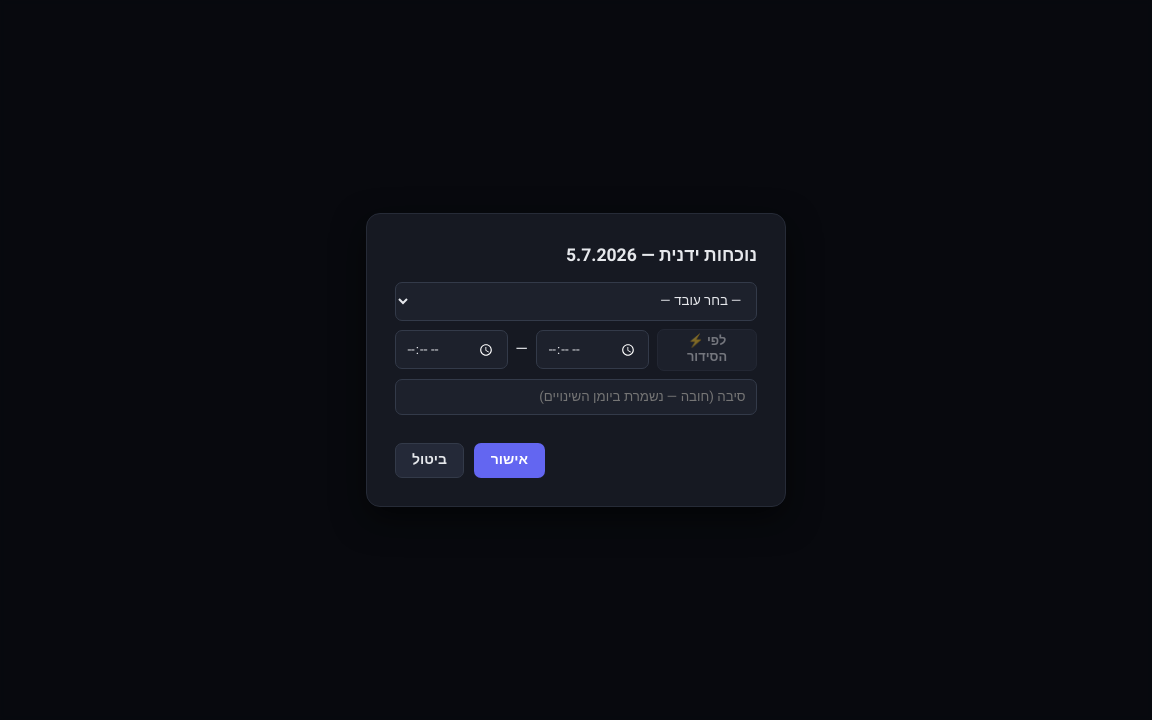
it: ManualEntryDialog › blocks submit without a guard or check-in
The width and height of the screenshot is (1152, 720).
Click the button "אישור" at (509, 461), box [474,443,545,478]
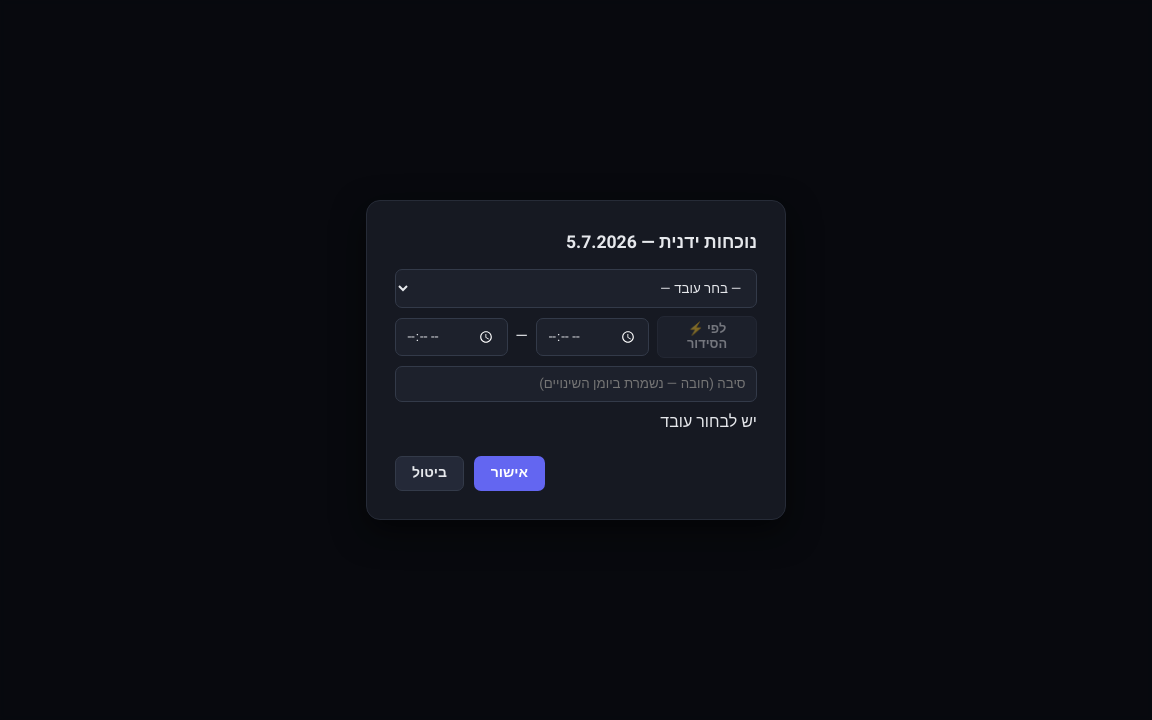
Result: the text "יש לבחור עובד" is shown at [660,410,757,434]
